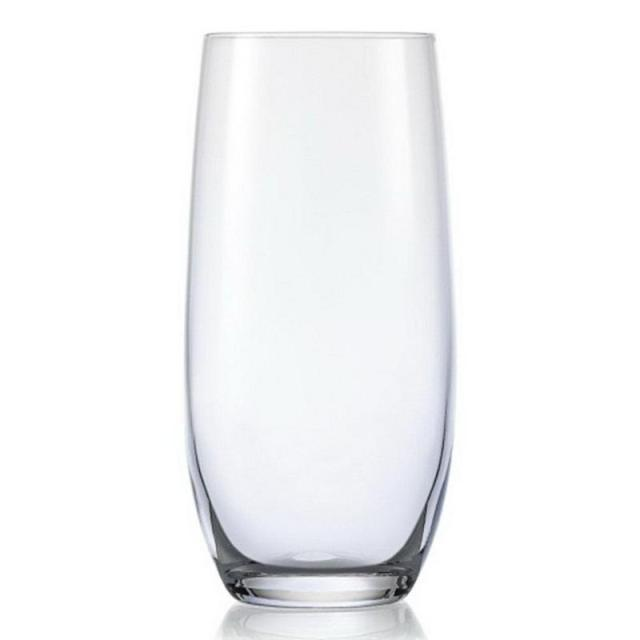Glass: (169, 25, 452, 618)
